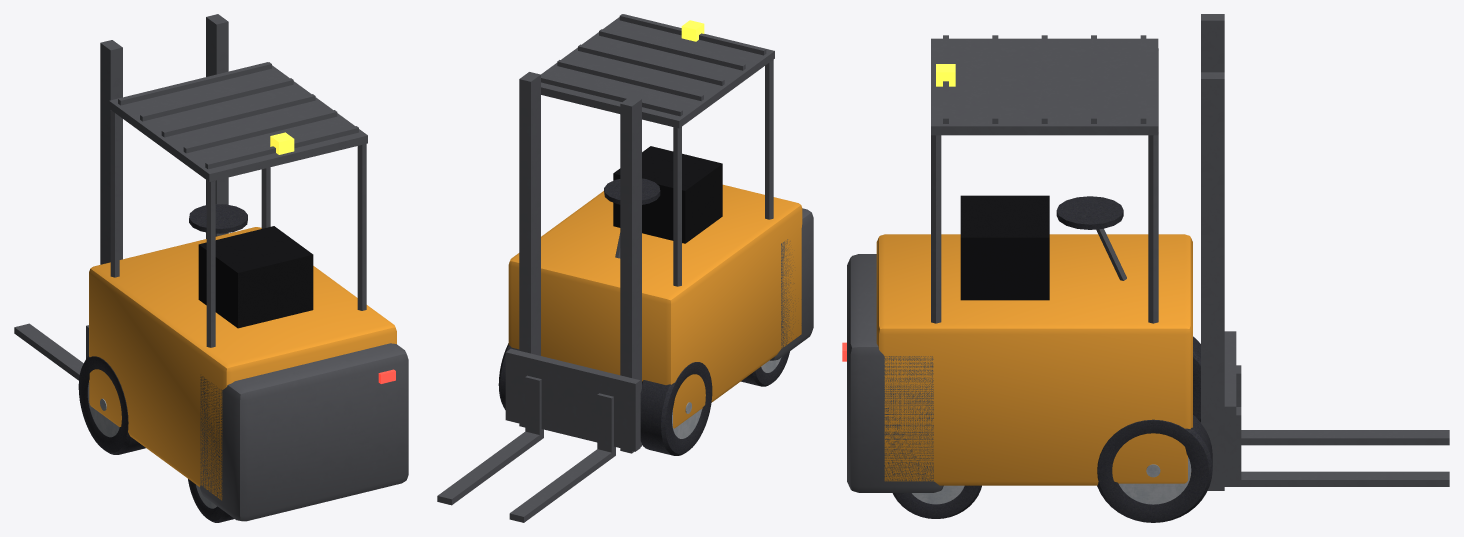
Rendered from forklift_orange.gltf.
3 views of the same model, side by side, from view 1: azimuth 30°, elevation 25°; view 2: azimuth 150°, elevation 25°; view 3: azimuth 270°, elevation 25° (orthographic). The views are drawn at different scales.
Visible parts, largest first — view 1: forklift_orange; view 2: forklift_orange; view 3: forklift_orange.
Boxes of the visible parts, x1,y1,x2,y2 form: forklift_orange: (14,14,408,522); forklift_orange: (437,14,813,522); forklift_orange: (842,14,1449,522).
Bounding box in the file's own units: 1.16 × 2.4 × 3.07.
Materials: 10 (6 with a texture image).
